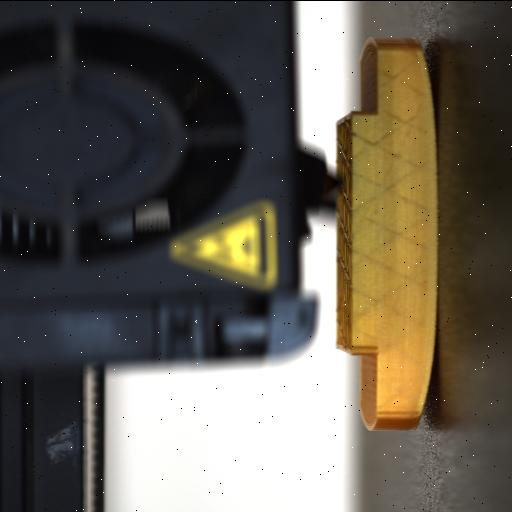warp: (404, 316, 444, 438), (406, 28, 442, 146)
